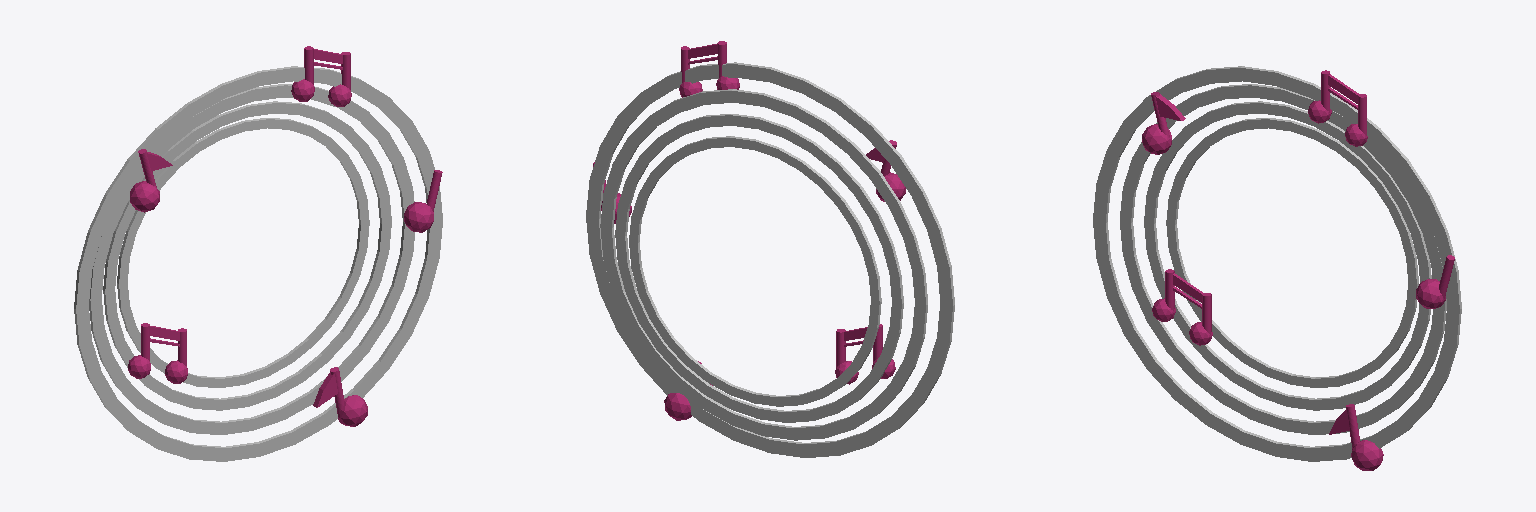
3 renders of one model, left to right at view 1: azimuth 30°, elevation 25°; view 2: azimuth 150°, elevation 25°; view 3: azimuth 330°, elevation 25°, orthographic.
Parts seen in each view (by area): view 1: 円柱; view 2: 円柱; view 3: 円柱.
Part boxes in pixels (x1,y1,x2,y2): 円柱: (74, 46, 442, 461); 円柱: (586, 41, 954, 457); 円柱: (1093, 66, 1461, 470).
Bounding box in the file's own units: 2.25 × 2.32 × 0.2909.
1 materials, 1 textured.